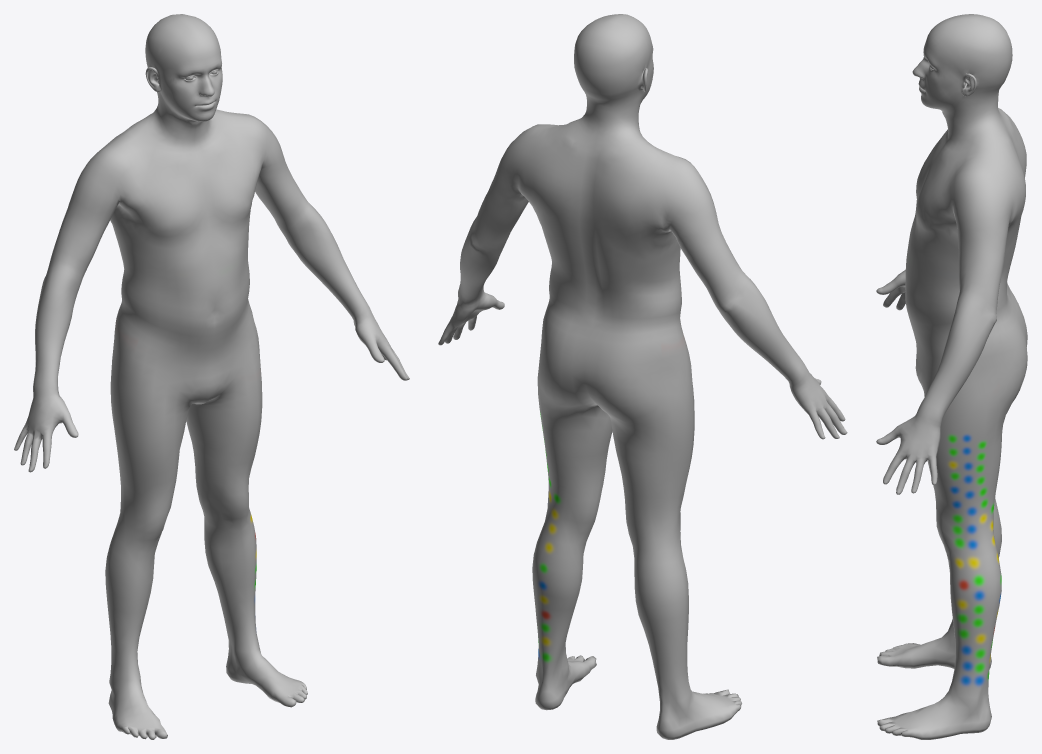
Rendered from 1135018-crossleg-all.gltf.
3 renders of one model, left to right at view 1: azimuth 30°, elevation 25°; view 2: azimuth 150°, elevation 25°; view 3: azimuth 270°, elevation 25°, orthographic. The views are drawn at different scales.
Parts seen in each view (by area): view 1: Male 68in 160lbs-A-pose; view 2: Male 68in 160lbs-A-pose; view 3: Male 68in 160lbs-A-pose.
Boxes of the visible parts, x1,y1,x2,y2 form: Male 68in 160lbs-A-pose: (14,14,409,739); Male 68in 160lbs-A-pose: (438,14,847,739); Male 68in 160lbs-A-pose: (876,14,1027,739).
Size of the model in its own units: 4.32 by 7.33 by 1.47.
1 material, 1 textured.
